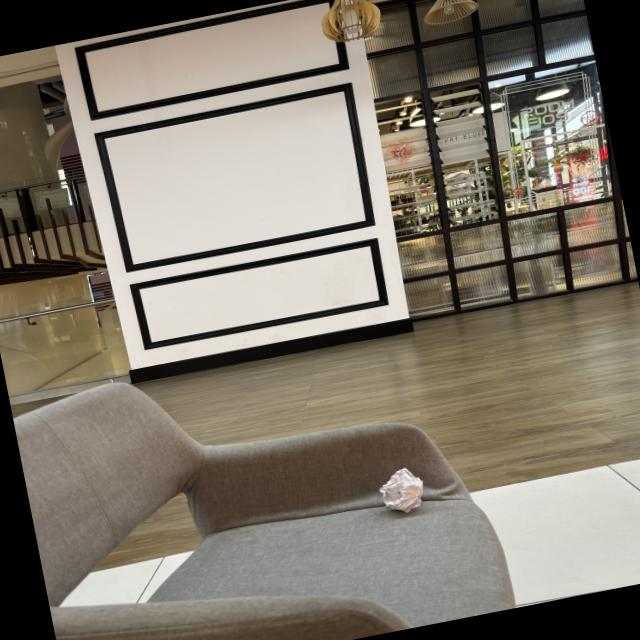crumpled_paper: (373, 462, 436, 519)
